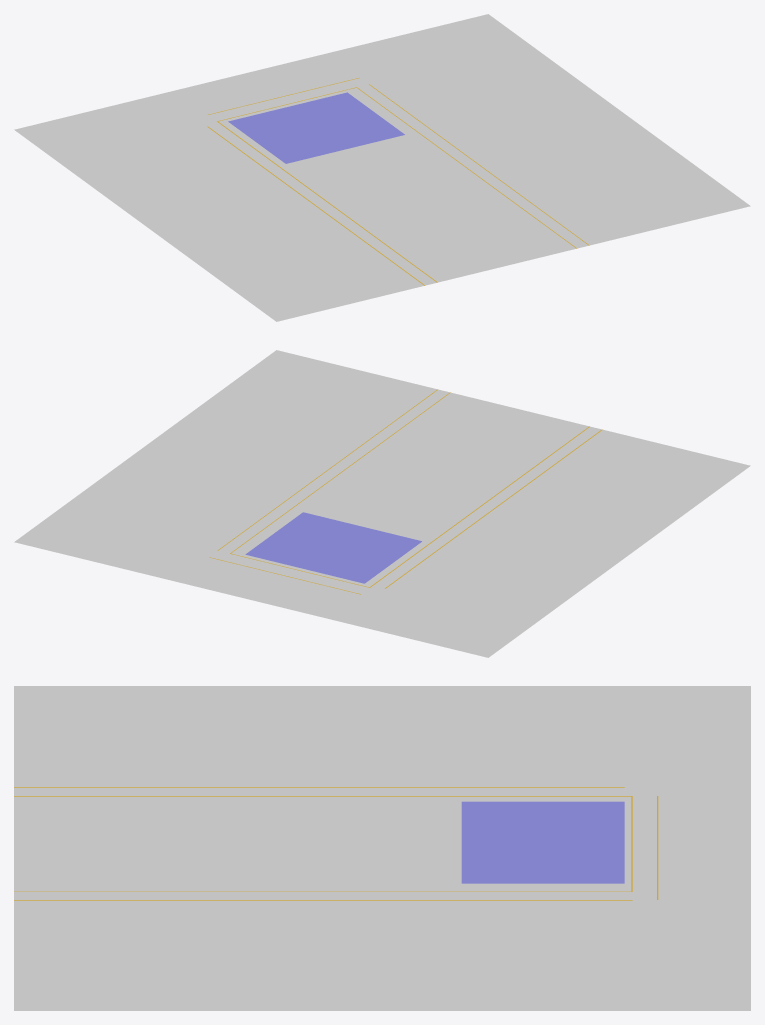
Rendered from Scale.fbx_Boden.fbx.
The picture shows the model from 3 angles, top to bottom: view 1: azimuth 30°, elevation 25°; view 2: azimuth 150°, elevation 25°; view 3: azimuth 270°, elevation 25°; orthographic projection. The views are drawn at different scales.
Visible parts, largest first — view 1: Plane; view 2: Plane; view 3: Plane.
Boxes of the visible parts, x1,y1,x2,y2 form: Plane: (14, 14, 750, 321); Plane: (14, 350, 750, 657); Plane: (14, 686, 750, 1010).
Size of the model in its own units: 84.15 by 80.66 by 0.
